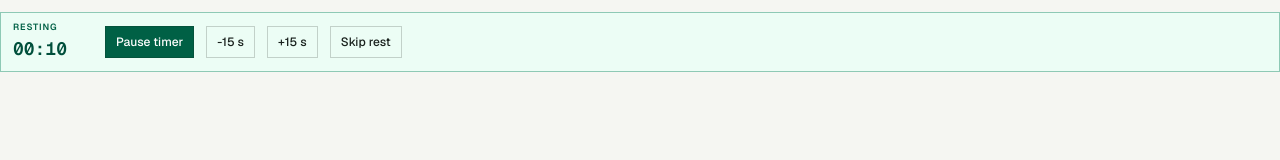
Test: RestTimer +15 / -15 › -15 with less than fifteen seconds left ends the rest like Skip, with no alert
This screenshot has width=1280, height=160.
Click the button named "Subtract 15 seconds" at (231, 42), box [206, 26, 255, 58]
Wait 30000 ms
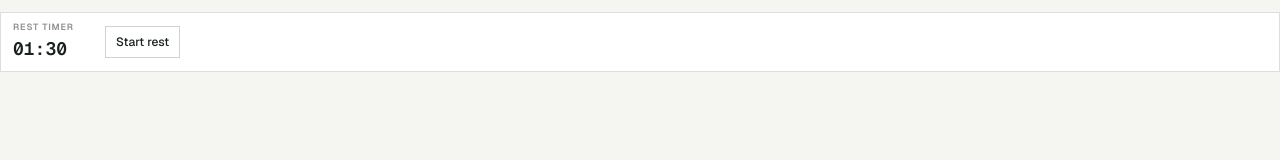
Expected: the text "Resting" is gone
Expected: the text "01:30" is shown, [13, 36, 67, 60]
